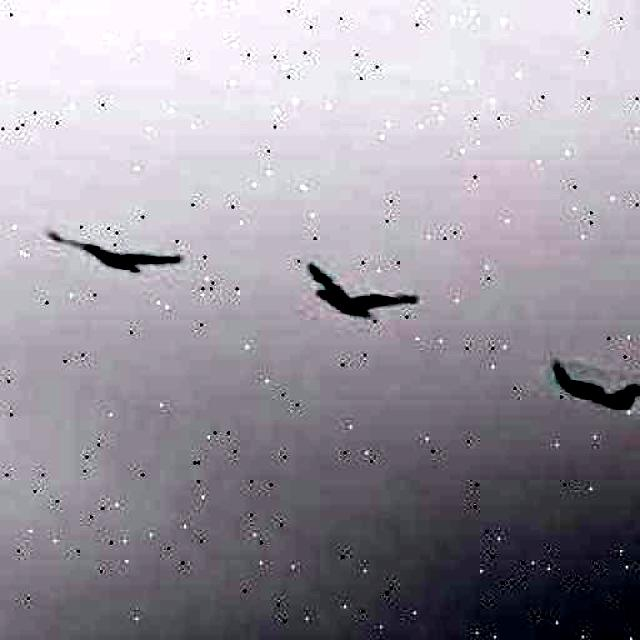airplane: (39, 220, 185, 288), (296, 260, 424, 334), (542, 356, 640, 414)
